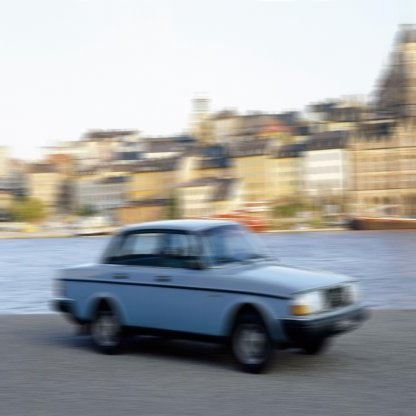Vehicle: (53, 216, 369, 376)
